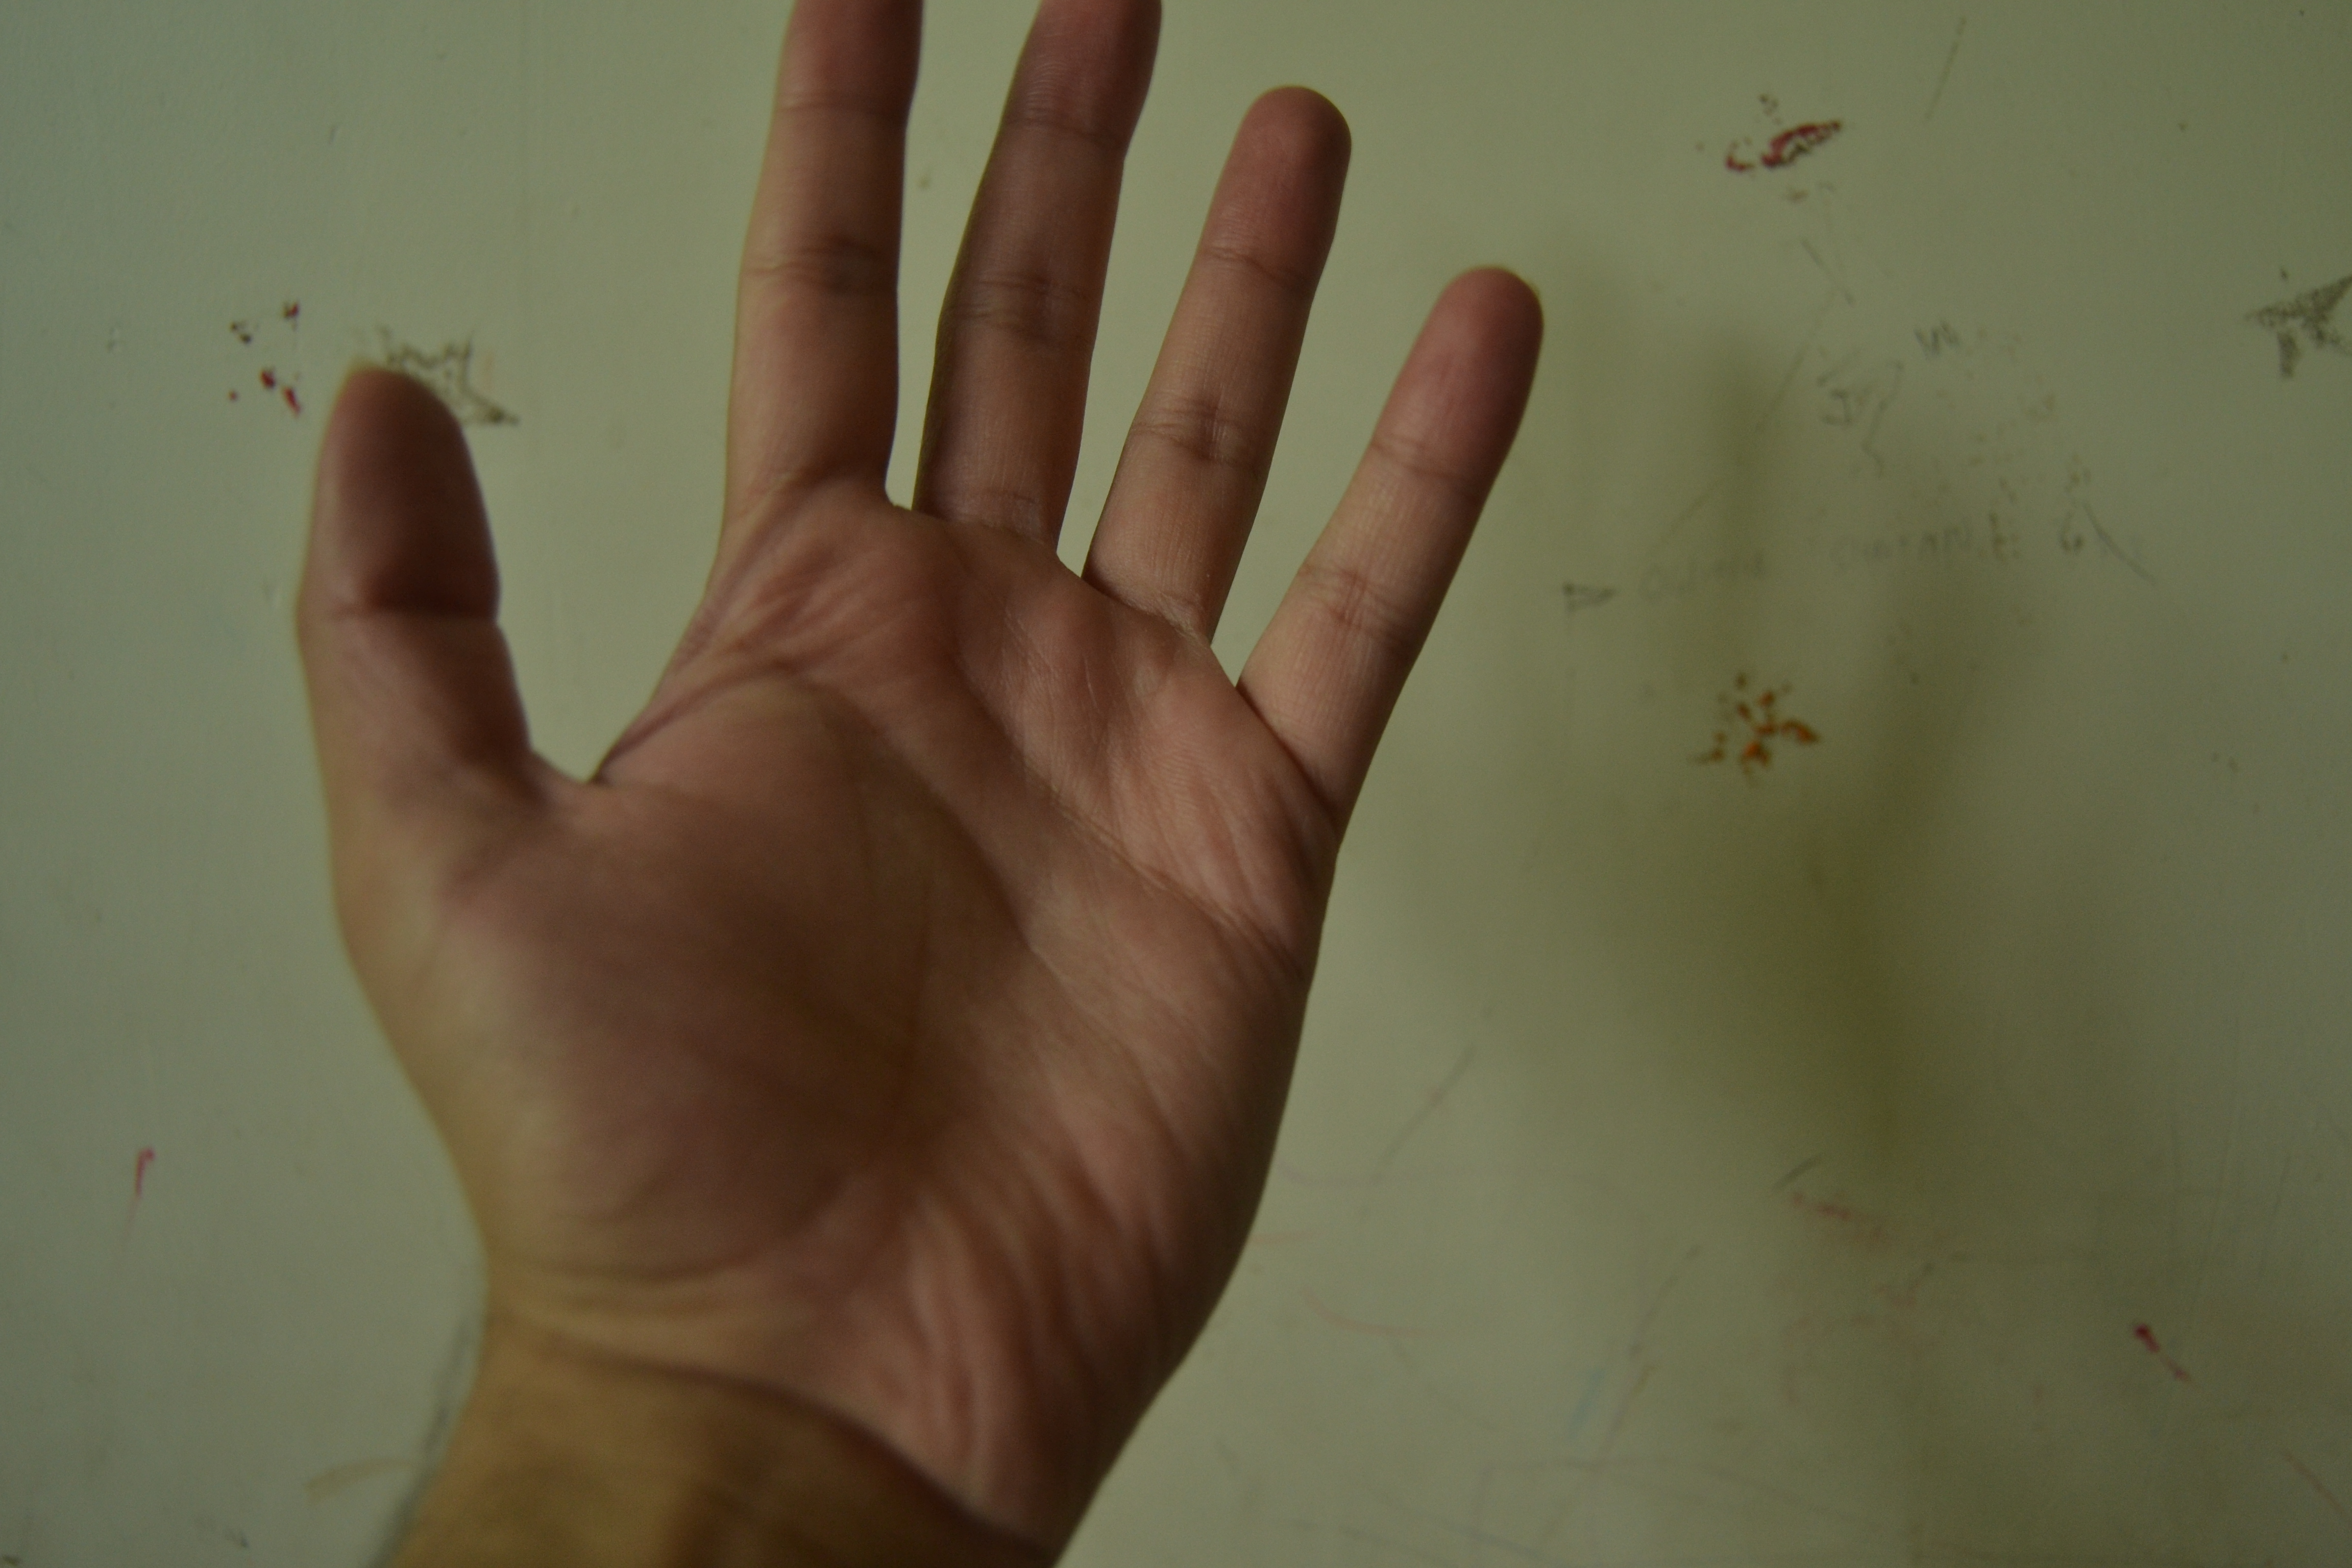move: (289, 21, 1568, 1459)
